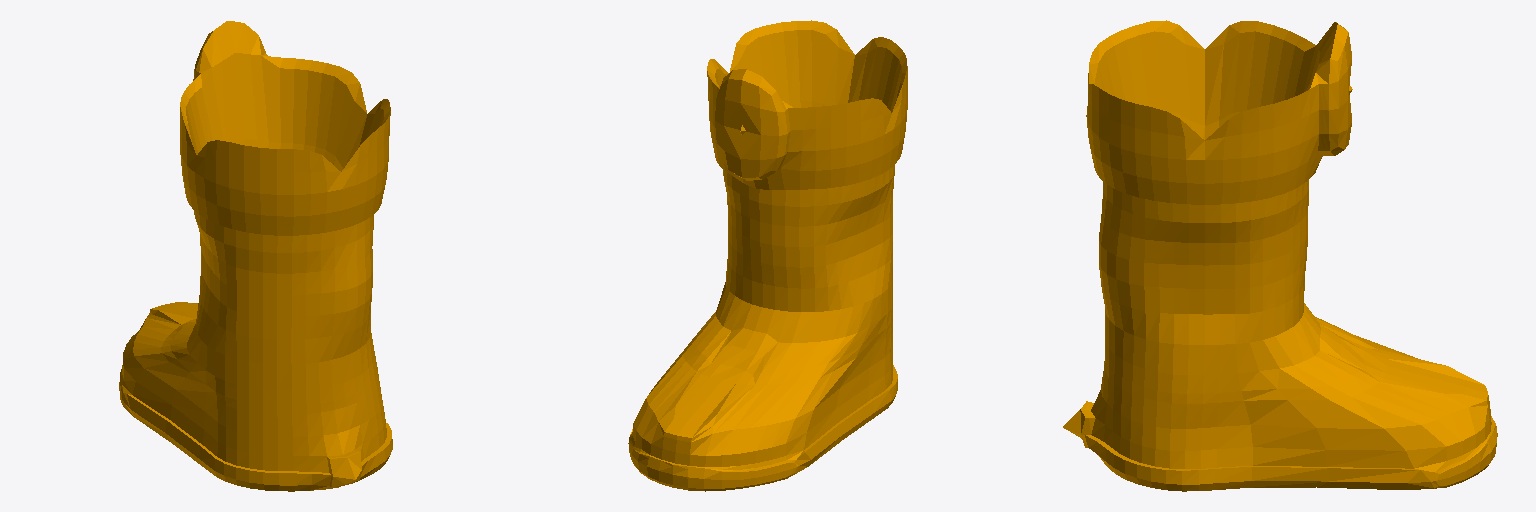
robot.urdf — mesh_object:
<?xml version="1.0" ?>
            <robot name="mesh_object">
            <link name="base">
                <visual>
                    <geometry>
                        <mesh filename="1.obj" scale="1.0 1.0 1.0"/>
                    </geometry>
                </visual>
                <collision>
                    <geometry>
                        <mesh filename="1.obj" scale="1.0 1.0 1.0"/>
                    </geometry>
                </collision>
                <inertial>
                    <origin xyz="0 0 0.048886755" rpy="0 0 0"/>
                    <mass value="0.5"/>
                    <inertia ixx="0.01" iyy="0.01" izz="0.01" ixy="0" ixz="0" iyz="0"/>
                </inertial>
            </link>
            </robot>
        

--- Render facts (derived) ---
The picture shows the robot from 3 angles, left to right: view 1: azimuth 30°, elevation 25°; view 2: azimuth 150°, elevation 25°; view 3: azimuth 270°, elevation 25°; orthographic projection.
Model mesh_object with 1 links and 0 joints (none), rooted at base, posed all joints at 0.
Visible links, largest first — view 1: base; view 2: base; view 3: base.
Link boxes in pixels (bbox=[...]): base: bbox=[119, 21, 392, 491]; base: bbox=[628, 20, 907, 491]; base: bbox=[1063, 20, 1497, 491].
Bounding box of the posed robot: 0.0473 × 0.0906 × 0.0978 m (x, y, z).
1 mesh visuals loaded from 1 distinct referenced files (1 OBJ).
